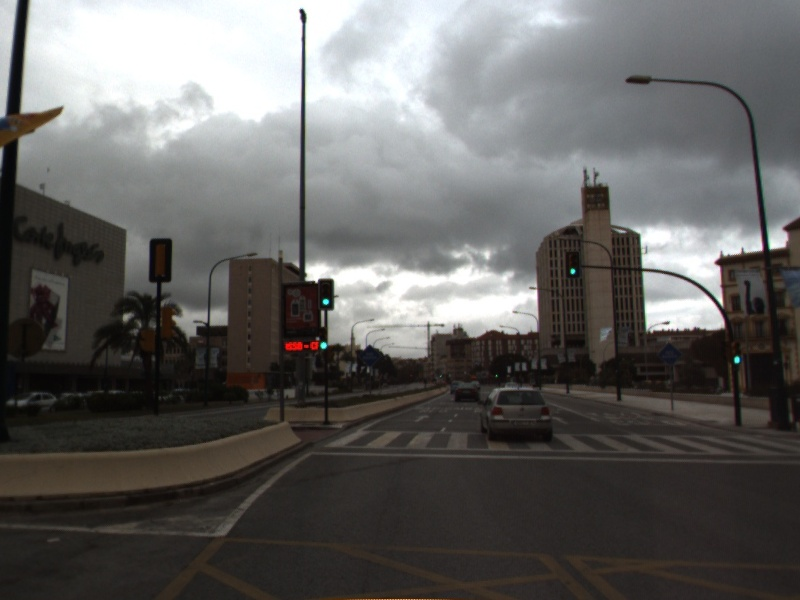STRAIGHT: (411, 411, 432, 424), (550, 414, 571, 427)
